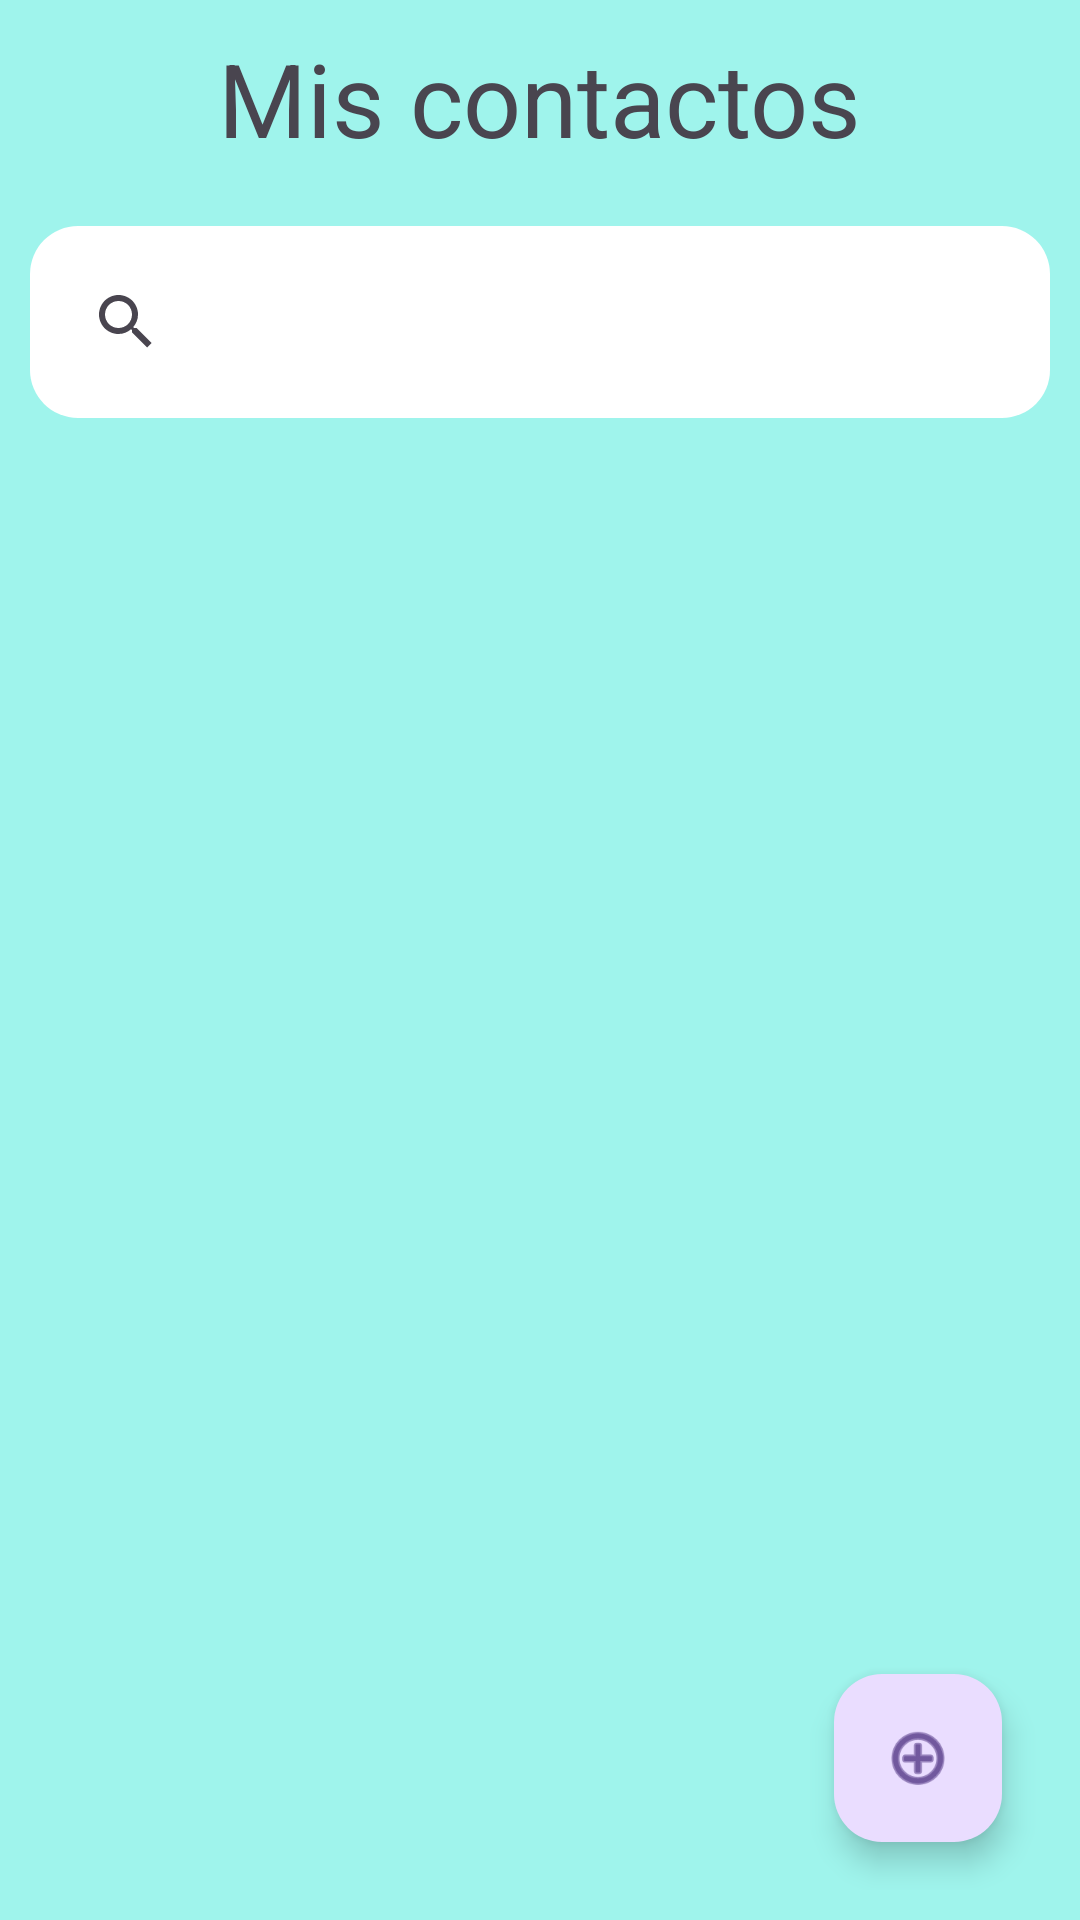

Named icons in this screenshot (1080px x 1920px) and their bounding boxes, (x1, y1, x2, y2):
add: (834, 1674, 1002, 1842)
